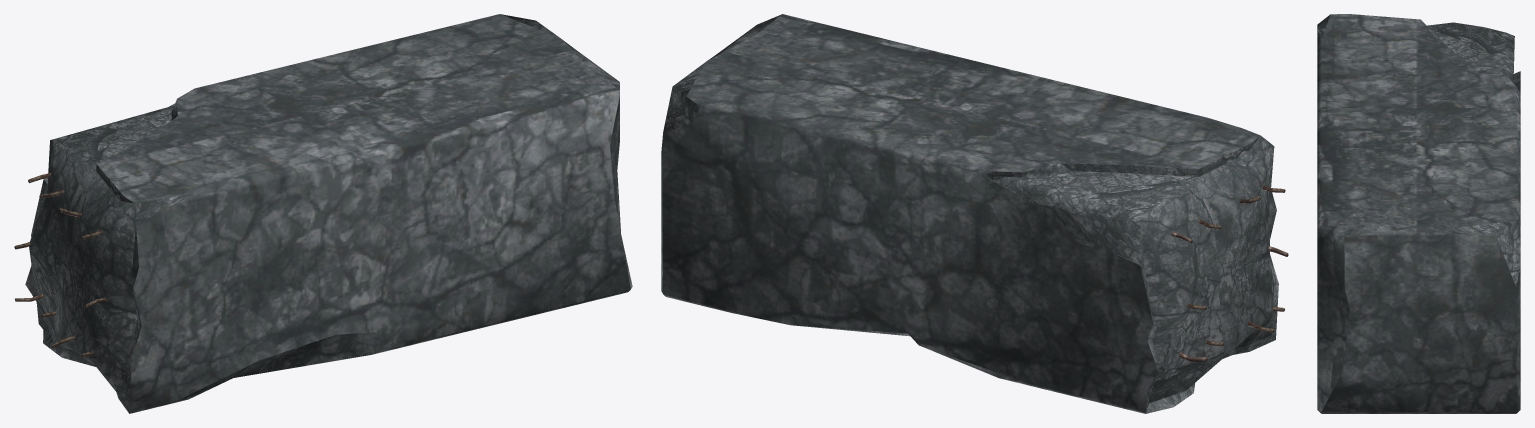
File: Rubble2.fbx
3 views of the same model, side by side, from view 1: azimuth 30°, elevation 25°; view 2: azimuth 150°, elevation 25°; view 3: azimuth 270°, elevation 25° (orthographic). The views are drawn at different scales.
Visible parts, largest first — view 1: SMO_BG50_Rubble_0200; view 2: SMO_BG50_Rubble_0200; view 3: SMO_BG50_Rubble_0200.
Boxes of the visible parts, x1,y1,x2,y2 form: SMO_BG50_Rubble_0200: [14, 14, 632, 413]; SMO_BG50_Rubble_0200: [661, 14, 1288, 413]; SMO_BG50_Rubble_0200: [1317, 14, 1520, 413].
Size of the model in its own units: 233 by 84.33 by 84.33.
3 materials, 3 textured.
